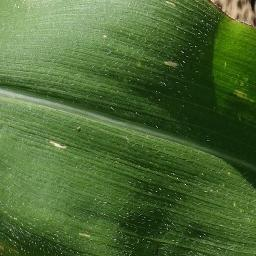Healthy: (1, 5, 253, 253)
